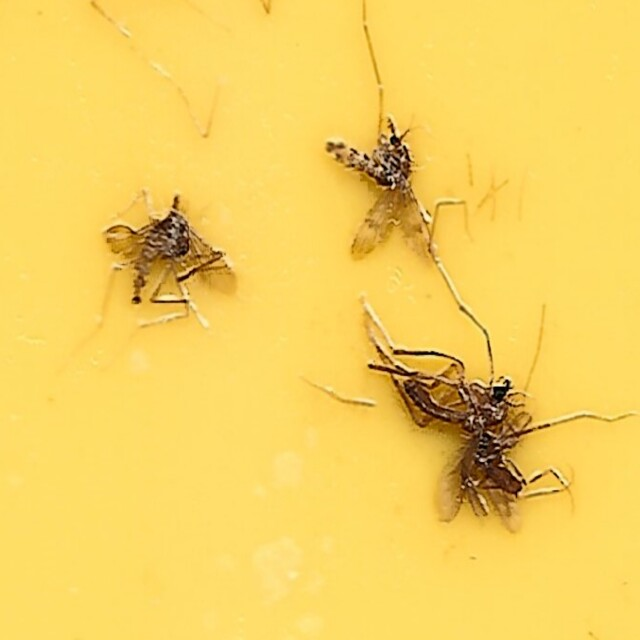Nematocera: (95, 184, 249, 330), (325, 118, 444, 279), (372, 323, 520, 441), (442, 420, 545, 522)
